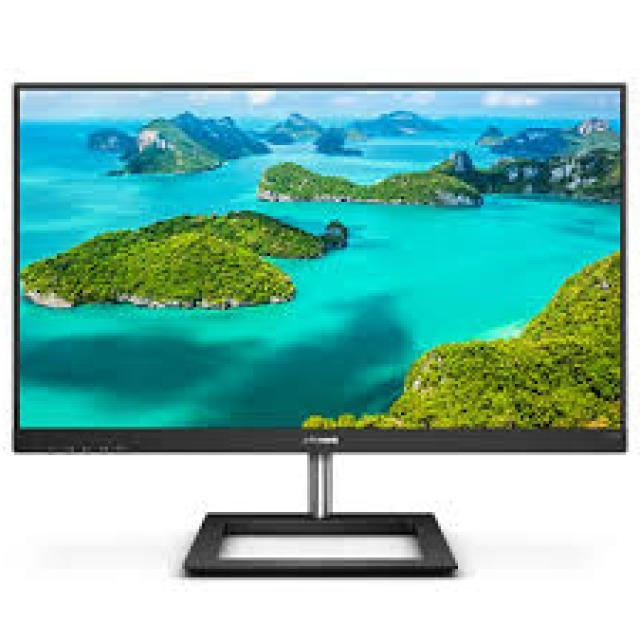monitor: (10, 65, 640, 614)
